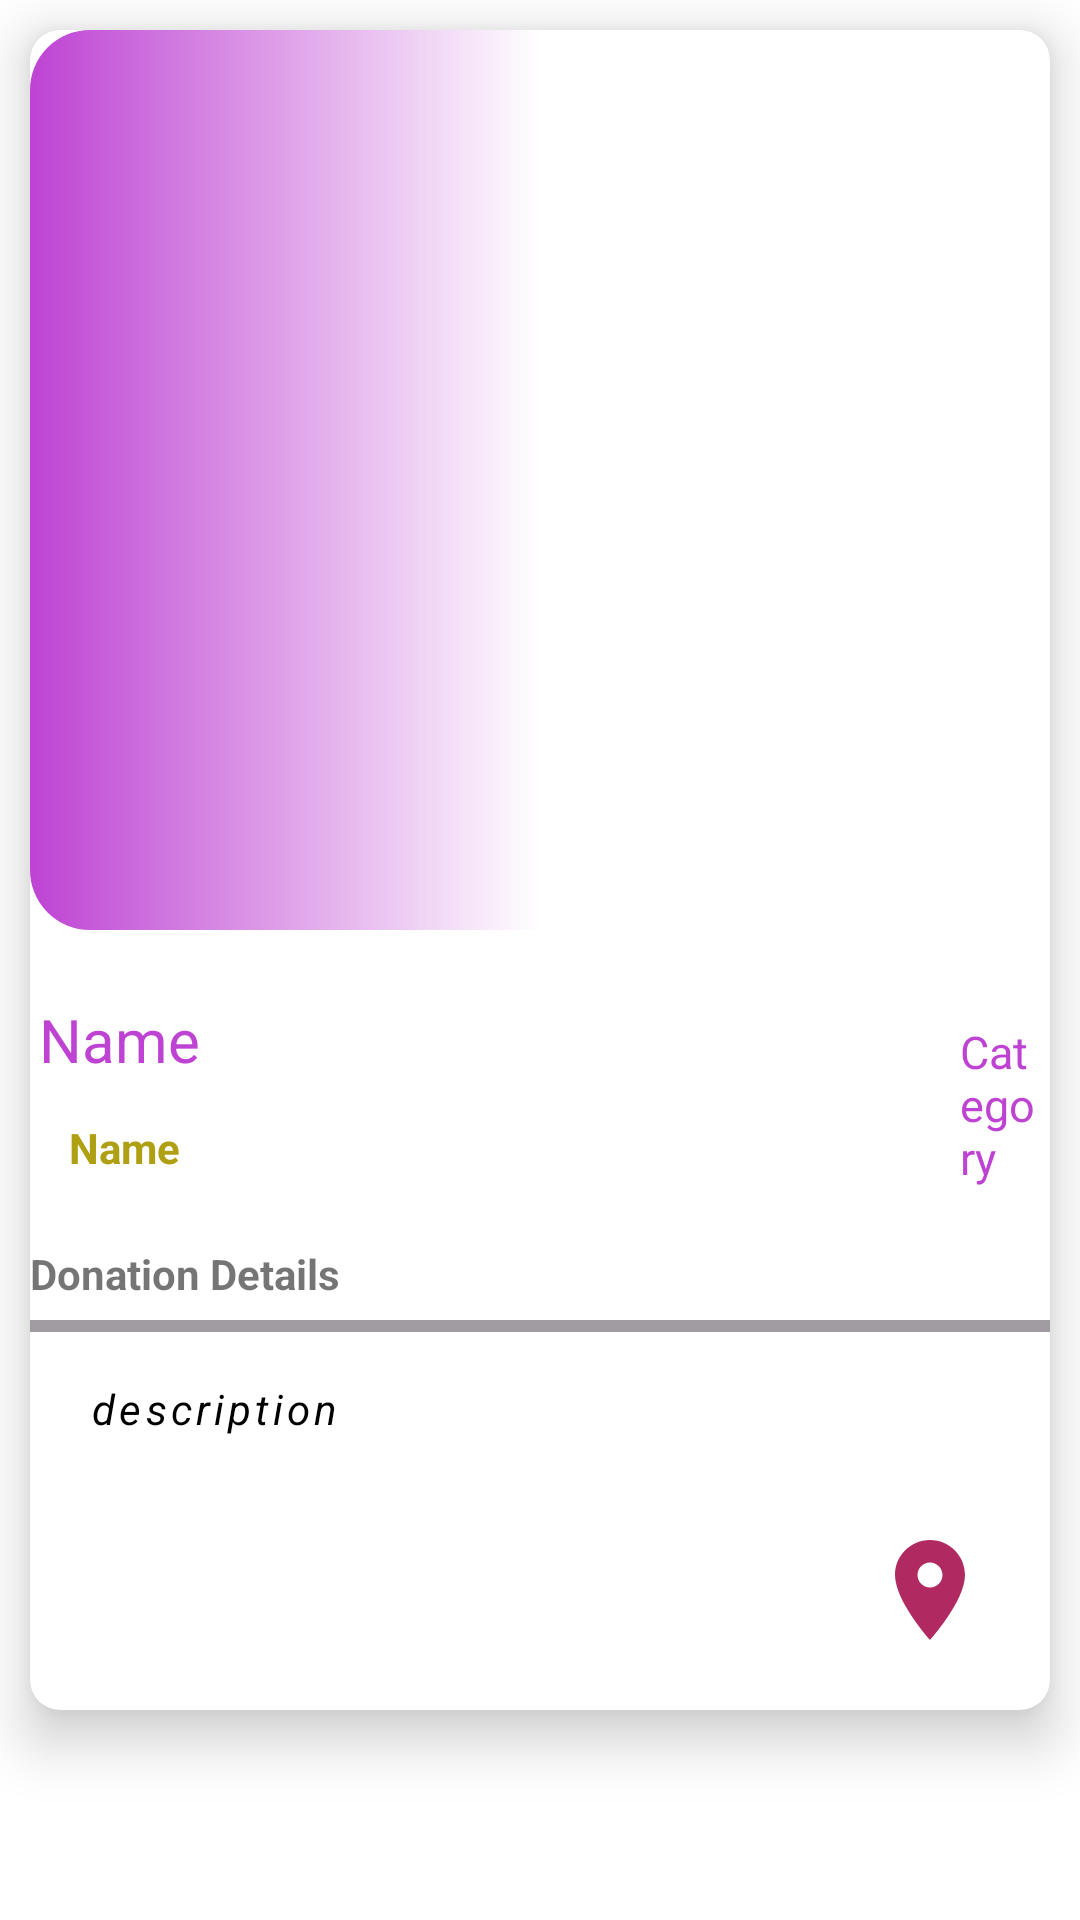

Icon click points for this 1080×1920 phone screenshot, format [x,y]:
location on: [930,1590]
